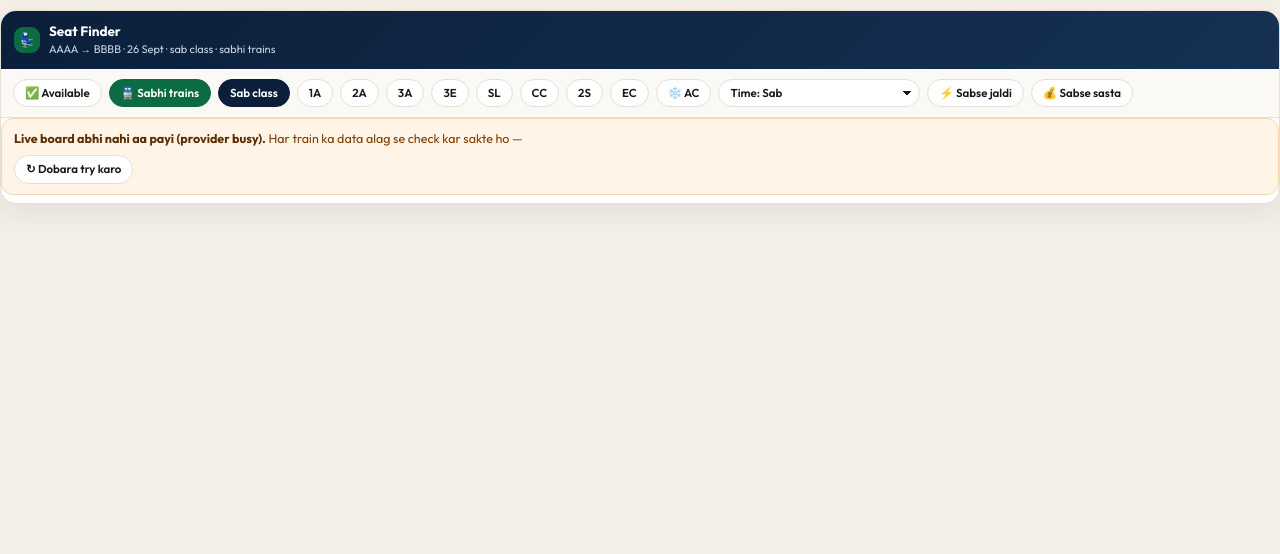
Test: Seat Finder card — board fail hone par › ↻ dabane par board dobara maangta hai aur data aane par rows dikh jaati hain
What coordinates should you click on to do the following:
click the button "↻ Dobara try karo"
I would click on:
 (74, 170)
Its box is [14,155,133,184].
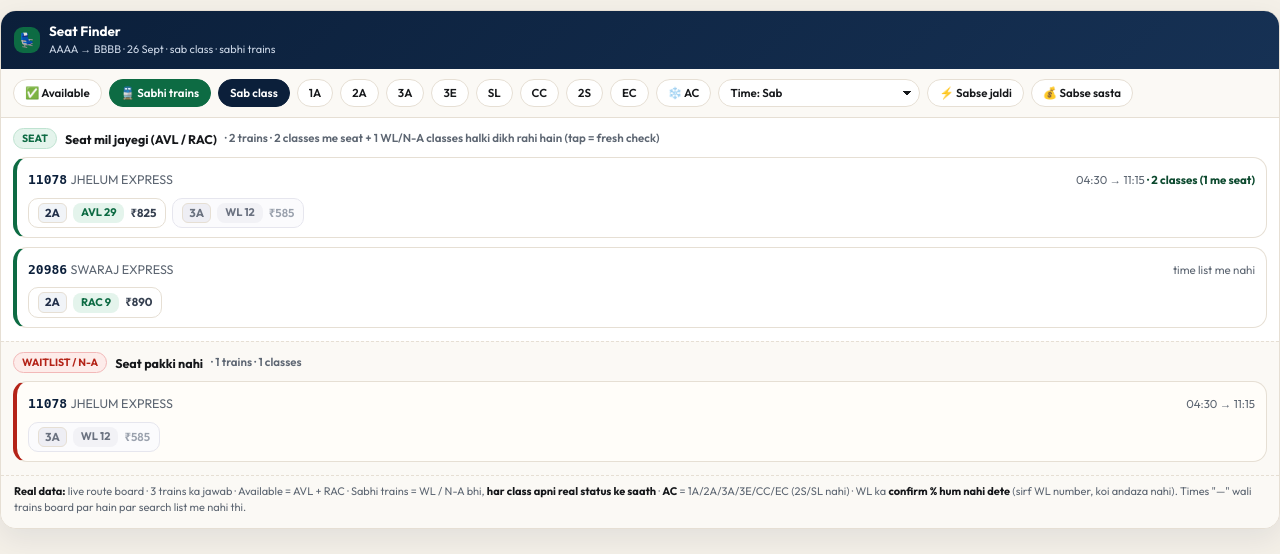
Now the text "AVL 29" is shown, box [73,203,124,223]
